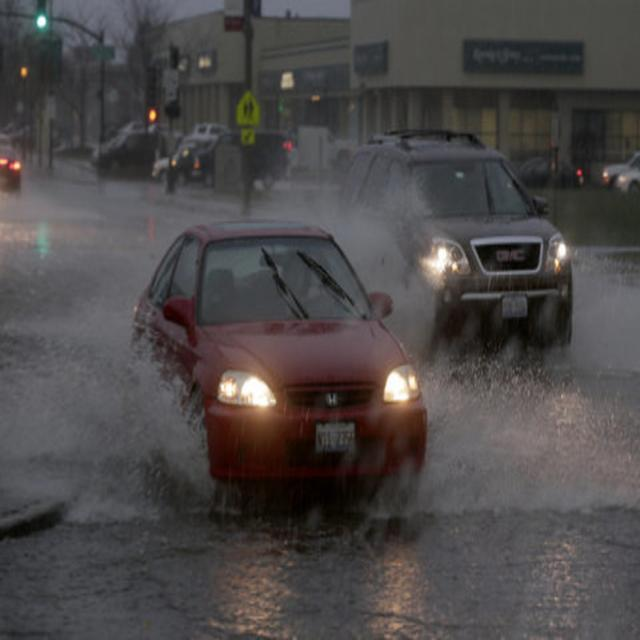car: (128, 216, 427, 498), (330, 130, 568, 346), (193, 125, 284, 189), (92, 128, 168, 168), (598, 145, 636, 184), (0, 143, 26, 193)
